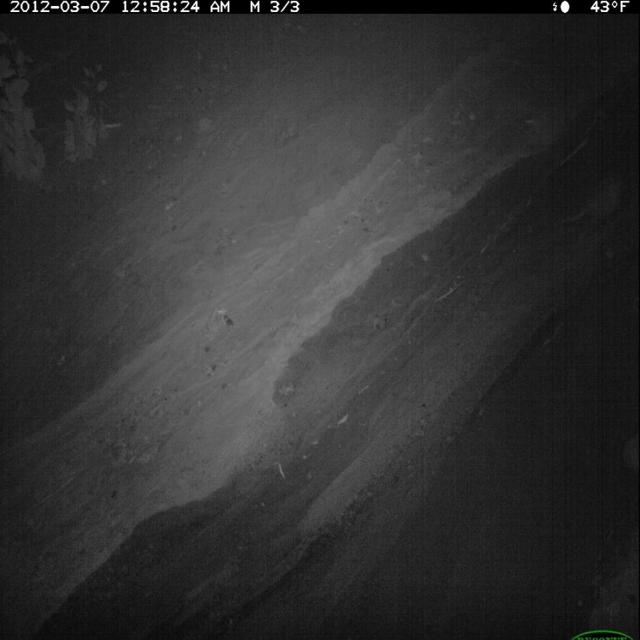opossum: (560, 155, 637, 242)
